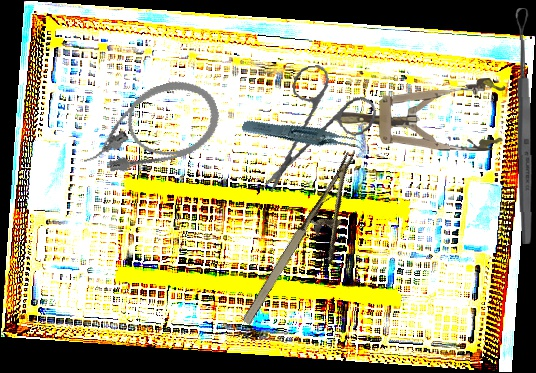Cannula: (69, 70, 228, 186)
Iris Scissors: (246, 58, 385, 193)
Needle Holder: (236, 151, 389, 344)
Speculum: (337, 77, 506, 154)
Surgical Spoon: (514, 7, 535, 245)
Tissue Forceps: (240, 96, 369, 179)
